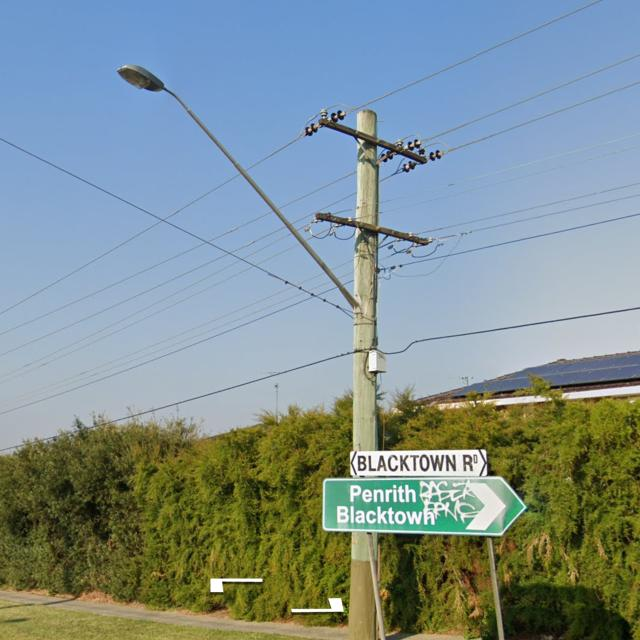HV-transmission: (304, 108, 447, 174)
crossarm: (319, 117, 426, 164), (314, 211, 429, 246)
streetlight: (115, 64, 354, 312)
timber-pole: (347, 110, 378, 632)
